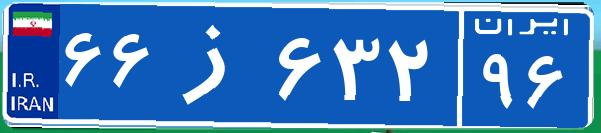2: (385, 28, 445, 110)
3: (330, 28, 385, 110)
6: (273, 28, 330, 110), (57, 26, 110, 107), (110, 28, 158, 105), (525, 38, 570, 115)
9: (475, 38, 525, 113)
ز: (158, 15, 273, 115)
